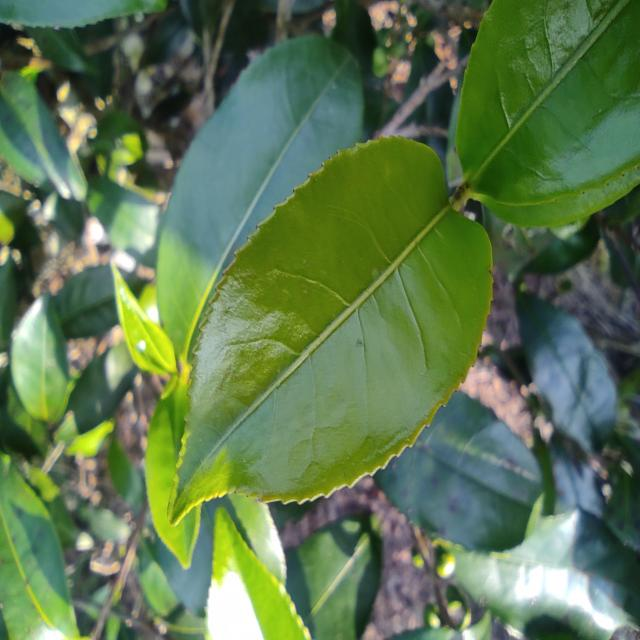Category B(2-4 days): (156, 116, 518, 535)
